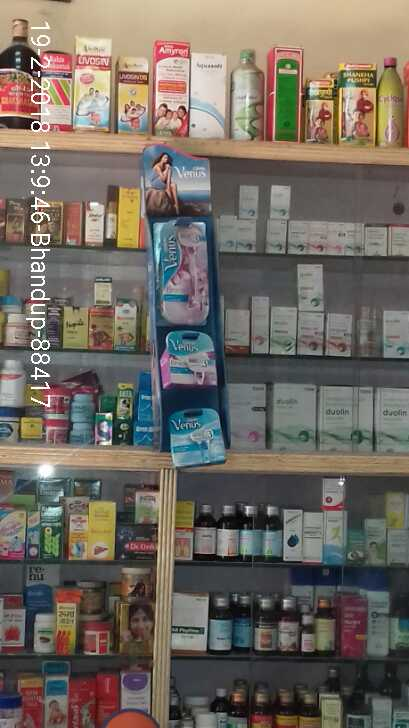beauty: (151, 218, 217, 329), (166, 407, 224, 469), (159, 330, 218, 385)
